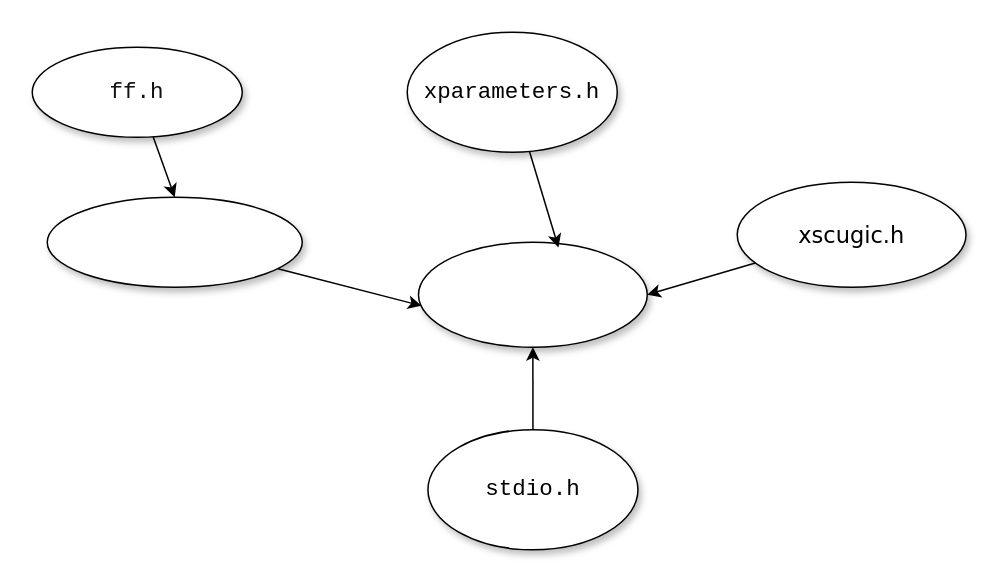
Image size: 1002x587. Some labels were removed from this diagram. Each missing label, with the centre of its shape:
main.c: the point at 533,296
SDoperation.h: the point at 175,244
